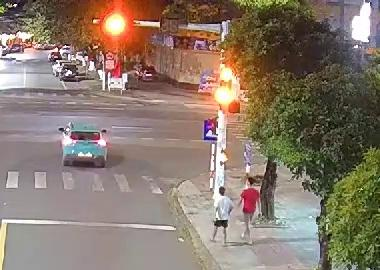stop_line: (2, 218, 176, 230)
yellow_light: (102, 12, 126, 36), (213, 86, 235, 105)
